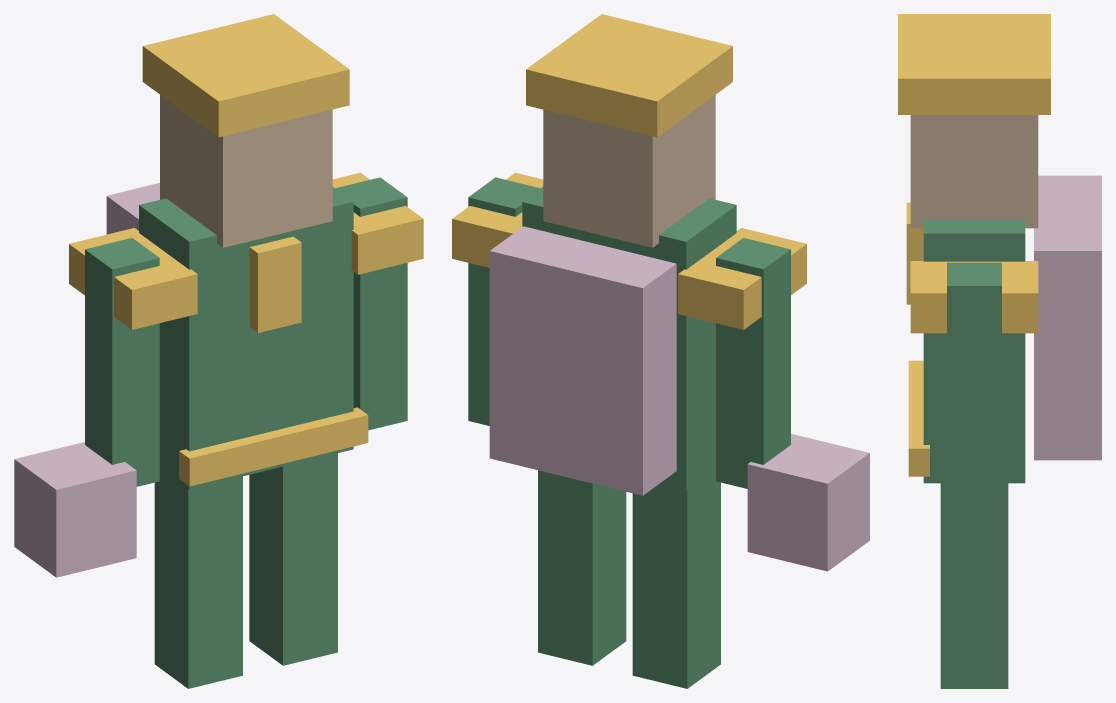
The model's file is 02_makoa_nullborne_sentinel_at_chain_lift.glb.
The picture shows the model from 3 angles, left to right: view 1: azimuth 30°, elevation 25°; view 2: azimuth 150°, elevation 25°; view 3: azimuth 270°, elevation 25°; orthographic projection.
Visible parts, largest first — view 1: Makoa Nullborne, Sentinel at Chain-Lift; view 2: Makoa Nullborne, Sentinel at Chain-Lift; view 3: Makoa Nullborne, Sentinel at Chain-Lift.
Part boxes in pixels (left/top/right/bottom): Makoa Nullborne, Sentinel at Chain-Lift: left=14, top=14, right=423, bottom=688; Makoa Nullborne, Sentinel at Chain-Lift: left=452, top=14, right=869, bottom=688; Makoa Nullborne, Sentinel at Chain-Lift: left=898, top=14, right=1101, bottom=688.
Size of the model in its own units: 1.06 by 1.68 by 0.511.
